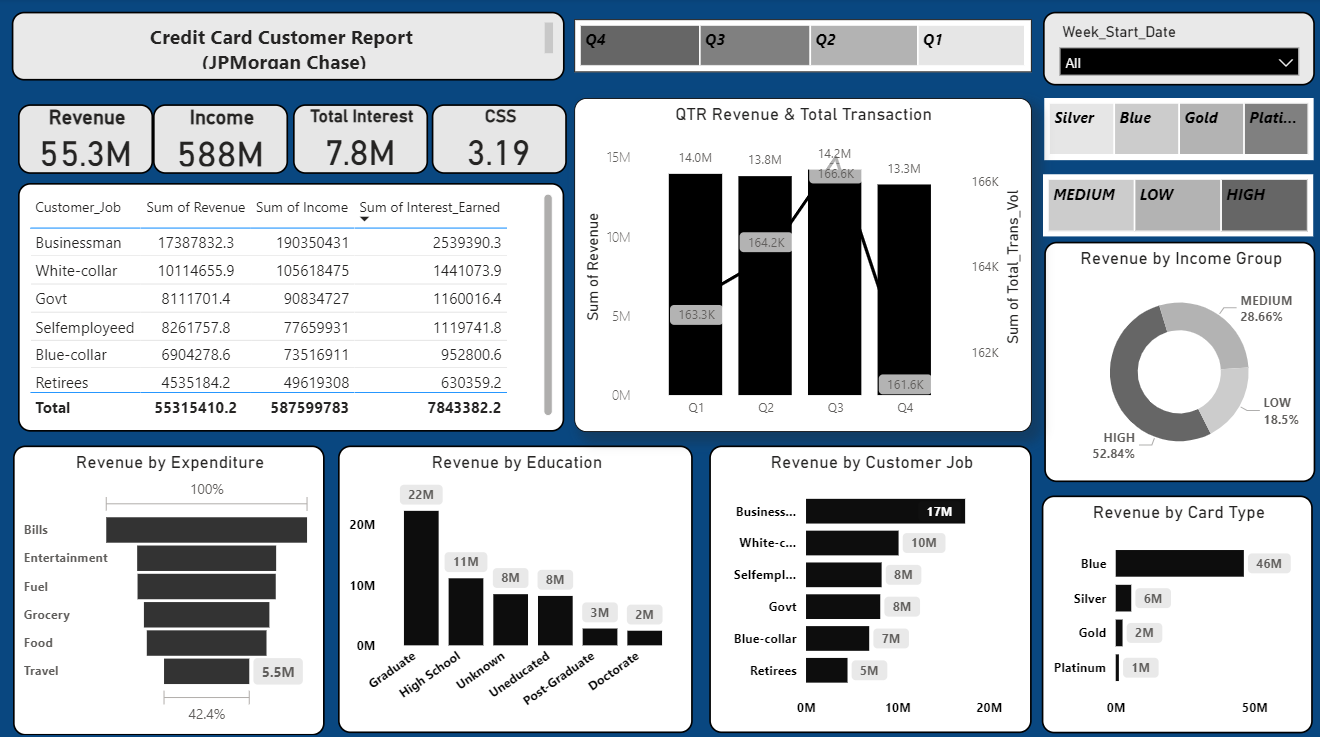

This screenshot's page, from the dashboard's own definition file:
{"tool":"powerbi","page":{"name":"CC Customer","canvas":[1280,720],"ordinal":0},"visuals":[{"type":"textbox","box":[13.8,13.8,533.8,66.2],"z":0},{"type":"tableEx","fields":{"Values":["cust_details.Customer_Job","Sum(cc_details.Revenue)","Sum(cust_details.Income)","Sum(cc_details.Interest_Earned)"]},"box":[19.3,178.6,527.2,240.1],"z":1000},{"type":"card","title":"Revenue","fields":{"Values":["Sum(cc_details.Revenue)"]},"box":[19.3,102.5,130.3,67.6],"z":2000},{"type":"card","title":"Income","fields":{"Values":["Sum(cust_details.Income)"]},"box":[149.7,102.2,130,67.5],"z":3000},{"type":"card","title":"Total Interest","fields":{"Values":["Sum(cc_details.Interest_Earned)"]},"box":[284.7,102.2,130,67.5],"z":4000},{"type":"card","title":"CSS","fields":{"Values":["Avg(cust_details.Cust_Satisfaction_Score)"]},"box":[418.5,102.2,130,67.5],"z":5000},{"type":"slicer","fields":{"Values":["cc_details.Week_Start_Date"]},"box":[1008.8,13.8,262.5,71.2],"z":6000},{"type":"treemap","fields":{"Group":["cc_details.Qtr"],"Values":["Avg(cc_details.Client_Num)"]},"box":[556.2,20,441.2,51.2],"z":7000},{"type":"treemap","fields":{"Values":["Avg(cc_details.Client_Num)"],"Group":["cc_details.Card_Category"]},"box":[1010,96.2,260,60],"z":8000},{"type":"donutChart","title":"Revenue by Income Group","fields":{"Category":["cust_details.IncomeGroup"],"Y":["Sum(cc_details.Revenue)"]},"box":[1009.8,235.3,261.8,231.6],"z":9000},{"type":"columnChart","title":"Revenue by Education","fields":{"Category":["cust_details.Education_Level"],"Y":["Sum(cc_details.Revenue)"]},"box":[328.2,431.9,342.6,277.5],"z":10000},{"type":"funnel","title":"Revenue by Expenditure","fields":{"Y":["Sum(cc_details.Revenue)"],"Category":["cc_details.Exp_Type"]},"box":[14.5,431.9,300.4,279.9],"z":11000},{"type":"lineStackedColumnComboChart","title":"QTR Revenue & Total Transaction","fields":{"Category":["cc_details.Qtr"],"Y":["Sum(cc_details.Revenue)"],"Y2":["Sum(cc_details.Total_Trans_Vol)"]},"box":[556.2,96.5,441.6,322.1],"z":12000},{"type":"clusteredBarChart","title":"Revenue by Customer Job","fields":{"Y":["Sum(cc_details.Revenue)"],"Category":["cust_details.Customer_Job"]},"box":[686.5,431.9,311.3,277.5],"z":13000},{"type":"treemap","fields":{"Values":["Avg(cc_details.Client_Num)"],"Group":["cust_details.IncomeGroup"]},"box":[1008.6,170.1,260.6,60.3],"z":14000},{"type":"clusteredBarChart","title":"Revenue by Card Type","fields":{"Y":["Sum(cc_details.Revenue)"],"Category":["cc_details.Card_Category"]},"box":[1007.4,480.2,261.8,229.2],"z":15000}]}

Visuals, with their boxes in screenshot pixels (x1, y1, x2, y2), scaled from the page's 1280x720 canvas onto the 1320x737 screenshot:
textbox: (14, 14, 565, 82)
tableEx - cust_details.Customer_Job x Sum(cc_details.Revenue): (20, 183, 564, 429)
"Revenue" card: (20, 105, 154, 174)
"Income" card: (154, 105, 288, 174)
"Total Interest" card: (294, 105, 428, 174)
"CSS" card: (432, 105, 566, 174)
slicer - cc_details.Week_Start_Date: (1040, 14, 1311, 87)
treemap - cc_details.Qtr x Avg(cc_details.Client_Num): (574, 20, 1029, 73)
treemap - Avg(cc_details.Client_Num) x cc_details.Card_Category: (1042, 98, 1310, 160)
"Revenue by Income Group" donutChart: (1041, 241, 1311, 478)
"Revenue by Education" columnChart: (338, 442, 692, 726)
"Revenue by Expenditure" funnel: (15, 442, 325, 729)
"QTR Revenue & Total Transaction" lineStackedColumnComboChart: (574, 99, 1029, 428)
"Revenue by Customer Job" clusteredBarChart: (708, 442, 1029, 726)
treemap - Avg(cc_details.Client_Num) x cust_details.IncomeGroup: (1040, 174, 1309, 236)
"Revenue by Card Type" clusteredBarChart: (1039, 492, 1309, 726)
